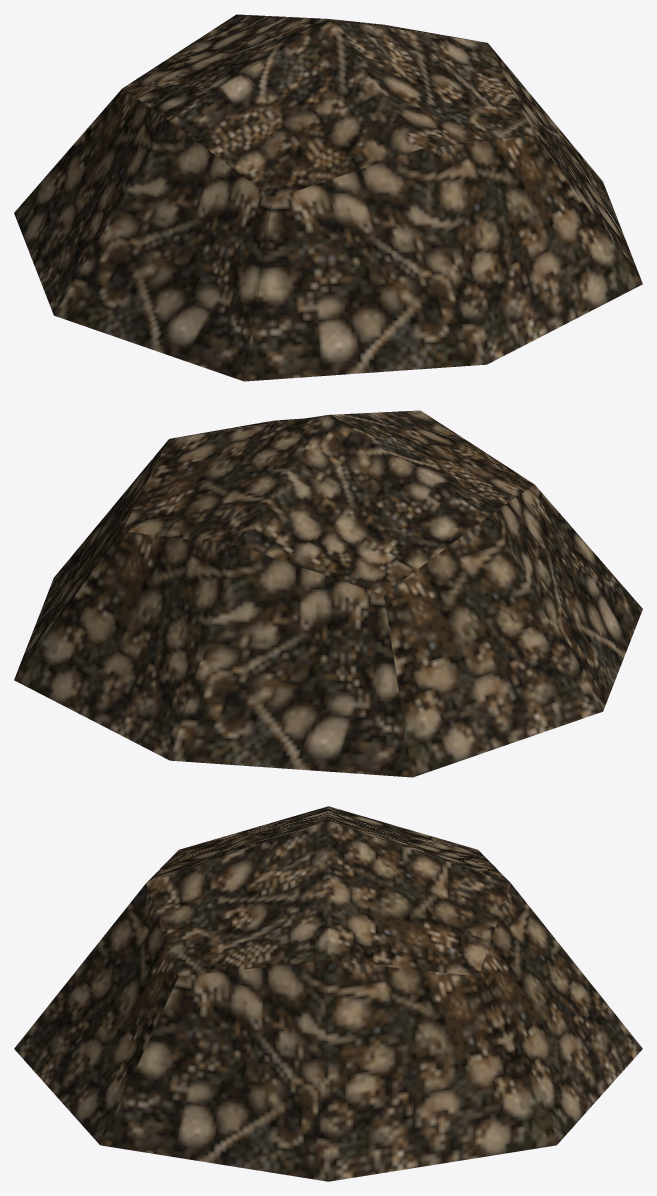
File: Bonepile.fbx
The picture shows the model from 3 angles, top to bottom: view 1: azimuth 30°, elevation 25°; view 2: azimuth 150°, elevation 25°; view 3: azimuth 270°, elevation 25°; orthographic projection.
Parts seen in each view (by area): view 1: Cube; view 2: Cube; view 3: Cube.
Boxes of the visible parts, <box> form: Cube: <box>14,14,642,381</box>; Cube: <box>14,410,642,777</box>; Cube: <box>14,806,642,1181</box>.
Size of the model in its own units: 267 by 107 by 267.
